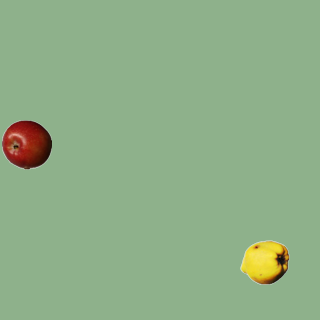Apple Braeburn: (1, 119, 51, 169)
Quince: (239, 237, 289, 287)
